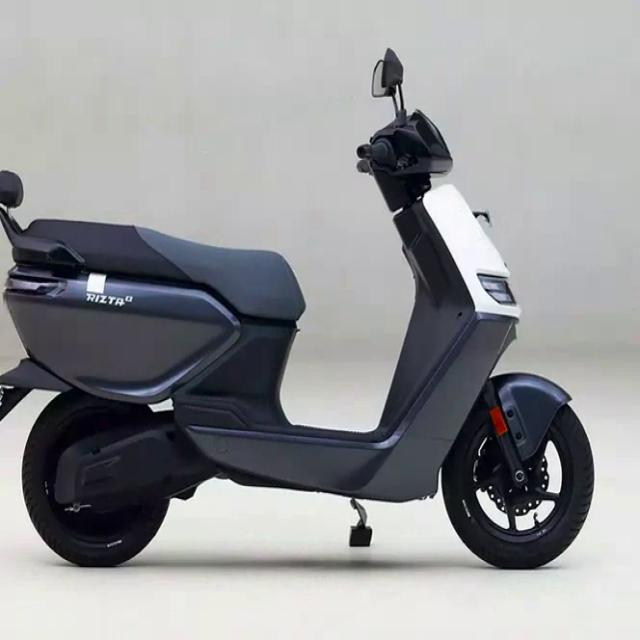objects: (1, 35, 620, 610)
